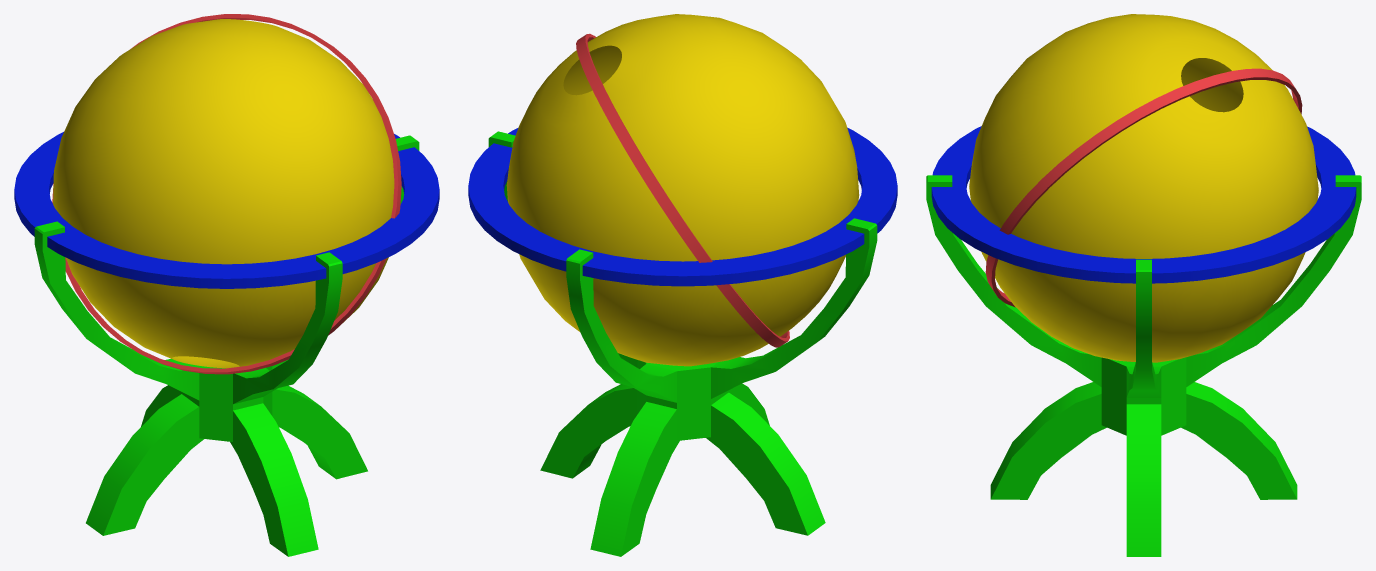
Rendered from Globe.fbx.
3 renders of one model, left to right at view 1: azimuth 30°, elevation 25°; view 2: azimuth 150°, elevation 25°; view 3: azimuth 270°, elevation 25°, orthographic.
Visible parts, largest first — view 1: Globe, Legs, Outer Torus, GlobeSupports, InnerTorus, Base; view 2: Globe, Legs, Outer Torus, GlobeSupports, InnerTorus, Base; view 3: Globe, Legs, Outer Torus, GlobeSupports, InnerTorus, Base.
Boxes of the visible parts, x1,y1,x2,y2 form: Globe: [53, 19, 394, 368]; Legs: [86, 385, 367, 556]; Outer Torus: [14, 132, 439, 288]; GlobeSupports: [34, 135, 419, 404]; InnerTorus: [52, 14, 401, 374]; Base: [181, 365, 272, 441]; Globe: [506, 14, 859, 366]; Legs: [540, 383, 825, 556]; Outer Torus: [468, 127, 897, 286]; GlobeSupports: [488, 131, 877, 402]; InnerTorus: [576, 33, 789, 347]; Base: [637, 360, 728, 440]; Globe: [969, 14, 1318, 362]; Legs: [990, 382, 1297, 556]; Outer Torus: [931, 126, 1356, 283]; GlobeSupports: [926, 175, 1361, 397]; InnerTorus: [985, 68, 1302, 307]; Base: [1101, 357, 1186, 435].
Bounding box in the file's own units: 95.4 × 112 × 95.4.
